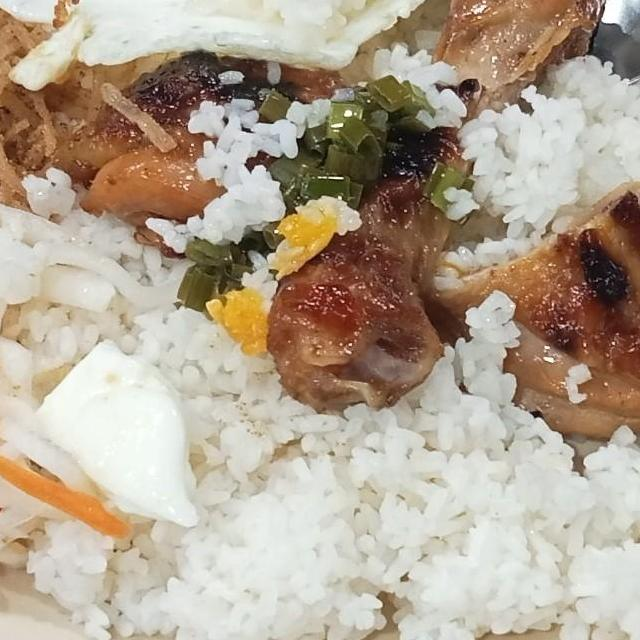bi: (0, 0, 180, 320)
com: (23, 269, 640, 640), (367, 22, 640, 323), (135, 53, 368, 312)
dua chua: (0, 195, 161, 619)
thit ga: (21, 0, 615, 425), (393, 174, 640, 450)
trung: (0, 0, 487, 234)
